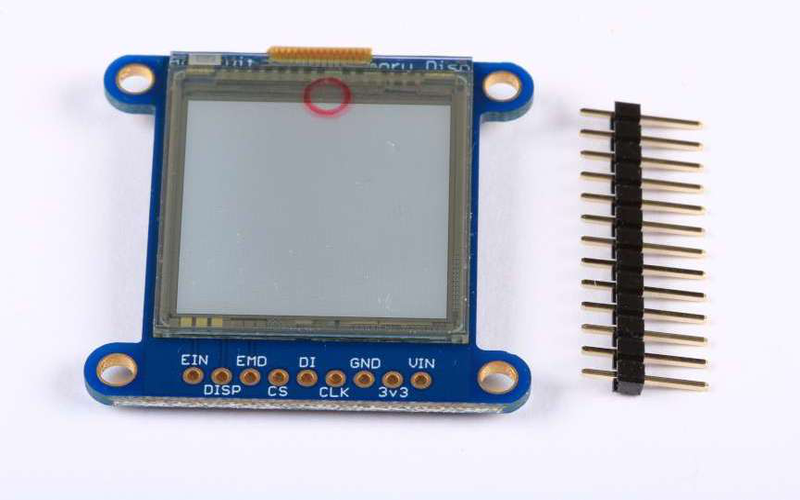LCD: (144, 47, 484, 365)
